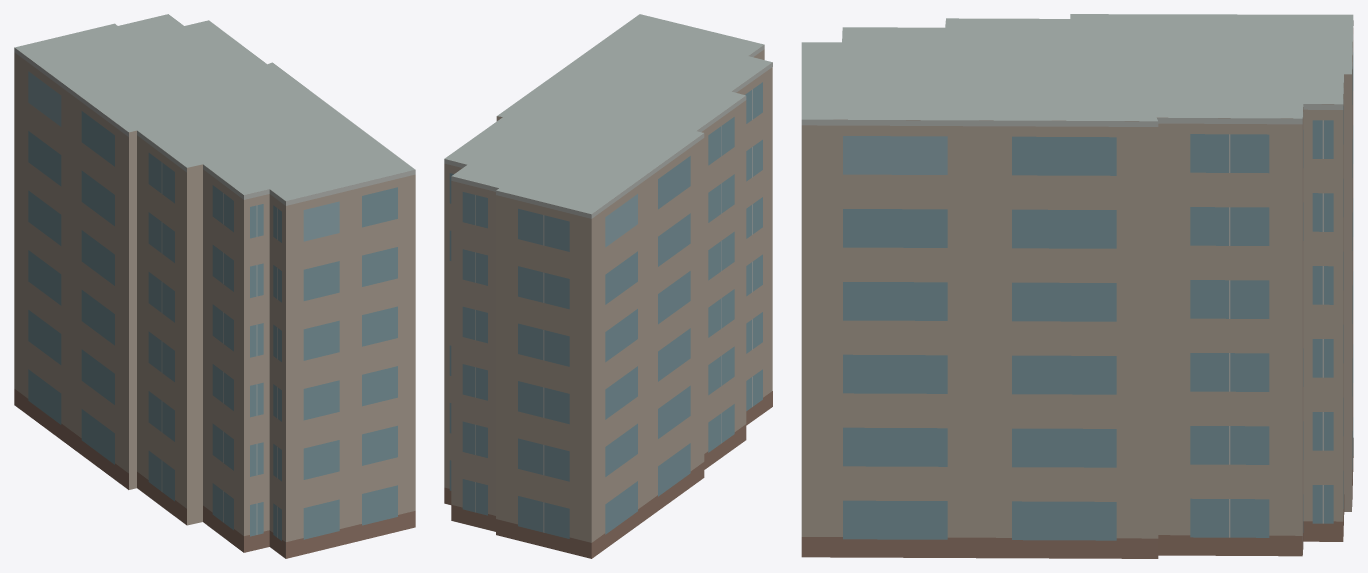
Rendered from survey-upis-32985186.glb.
3 views of the same model, side by side, from view 1: azimuth 30°, elevation 25°; view 2: azimuth 150°, elevation 25°; view 3: azimuth 270°, elevation 25° (orthographic). The views are drawn at different scales.
Visible parts, largest first — view 1: survey-upis-32985186.tmp; view 2: survey-upis-32985186.tmp; view 3: survey-upis-32985186.tmp.
Part boxes in pixels (box(x1,y1,x2,y2)): survey-upis-32985186.tmp: box(14, 14, 415, 558); survey-upis-32985186.tmp: box(444, 14, 772, 558); survey-upis-32985186.tmp: box(801, 14, 1353, 558).
Size of the model in its own units: 9.62 by 18.3 by 20.93.
